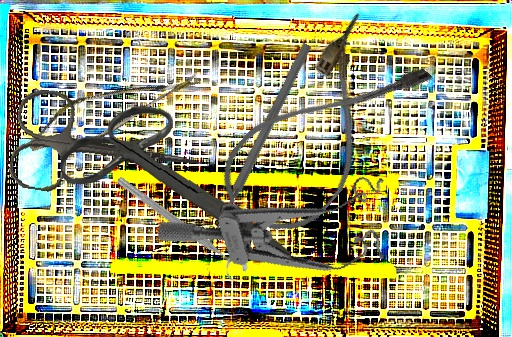Cannula: (206, 9, 438, 252)
Fixation Ring: (108, 172, 251, 286)
Iris Scissors: (59, 101, 291, 268), (6, 86, 210, 215)
Micro Scissor: (21, 35, 204, 181)
Pusher: (203, 41, 314, 247)
Speculum: (154, 155, 407, 321)
